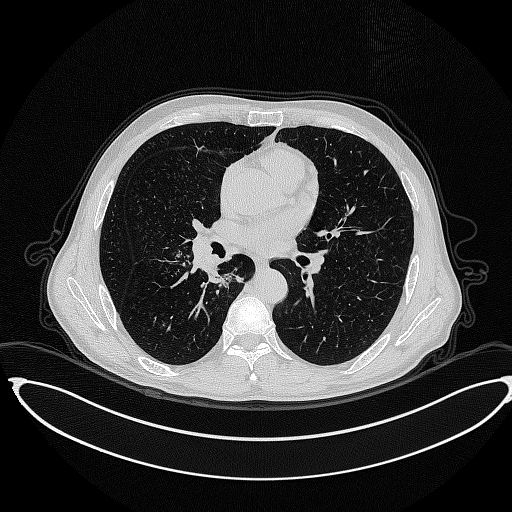nodule: (220, 273, 232, 286)
